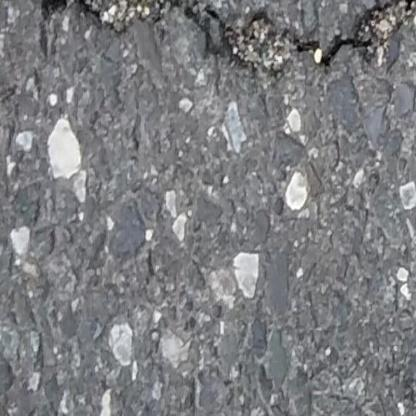Cracks: (25, 0, 416, 93)
